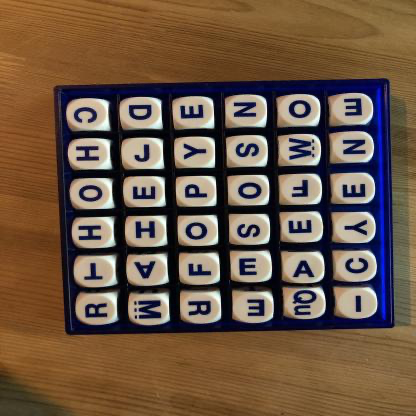a: (126, 256, 168, 286), (283, 253, 325, 283)
c: (67, 99, 108, 132), (334, 252, 377, 282)
d: (121, 98, 163, 130)
e: (172, 97, 214, 129), (333, 174, 374, 206), (124, 177, 166, 208), (333, 94, 374, 125), (281, 213, 323, 243), (233, 293, 274, 323), (230, 253, 272, 282)
f: (280, 176, 321, 206), (179, 256, 220, 285)
h: (68, 139, 111, 170), (126, 217, 168, 248), (73, 218, 114, 249)
i: (336, 289, 378, 319)
j: (122, 139, 165, 171)
m: (129, 295, 170, 325)
n: (226, 97, 267, 129), (332, 133, 373, 163)
o: (279, 96, 319, 127), (177, 216, 218, 246), (228, 177, 270, 206), (71, 180, 111, 210)
p: (176, 178, 217, 207)
qu: (284, 289, 326, 319)
r: (181, 293, 223, 323), (78, 296, 117, 325)
s: (227, 138, 268, 168), (230, 216, 271, 245)
t: (76, 258, 116, 286)
w: (279, 136, 322, 167)
y: (333, 214, 376, 245), (175, 138, 216, 169)
